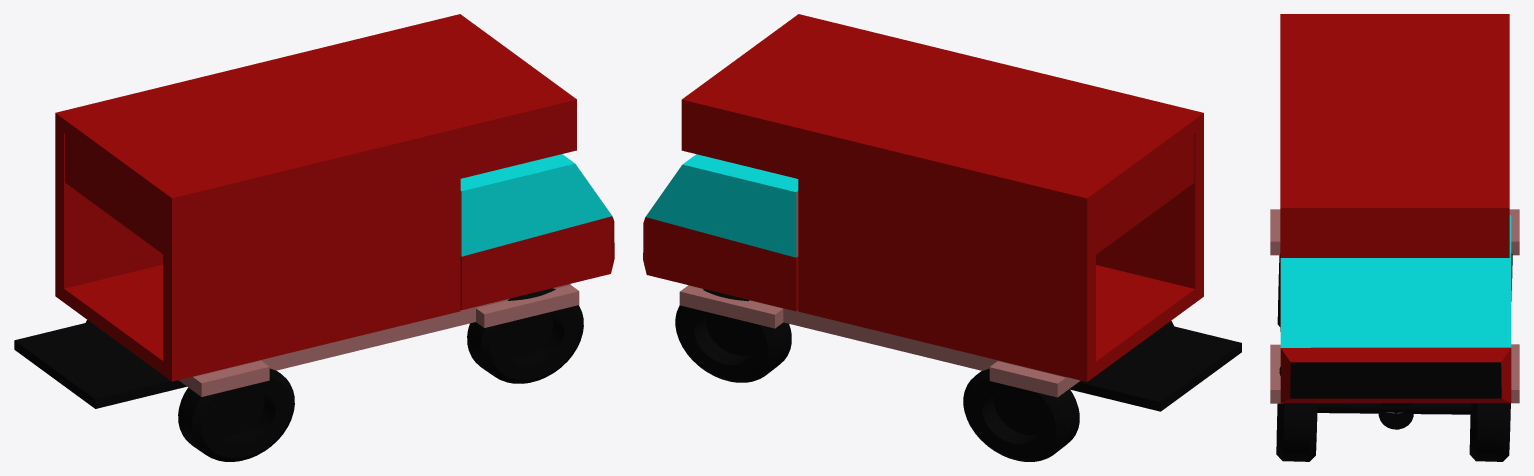
The model's file is camionEouge2.fbx.
3 renders of one model, left to right at view 1: azimuth 30°, elevation 25°; view 2: azimuth 150°, elevation 25°; view 3: azimuth 270°, elevation 25°, orthographic. The views are drawn at different scales.
Parts seen in each view (by area): view 1: pasted__camion; view 2: pasted__camion; view 3: pasted__camion.
Boxes of the visible parts, x1,y1,x2,y2 form: pasted__camion: [14, 14, 614, 461]; pasted__camion: [643, 14, 1241, 461]; pasted__camion: [1270, 14, 1519, 461].
Bounding box in the file's own units: 20.44 × 10.91 × 8.92.
